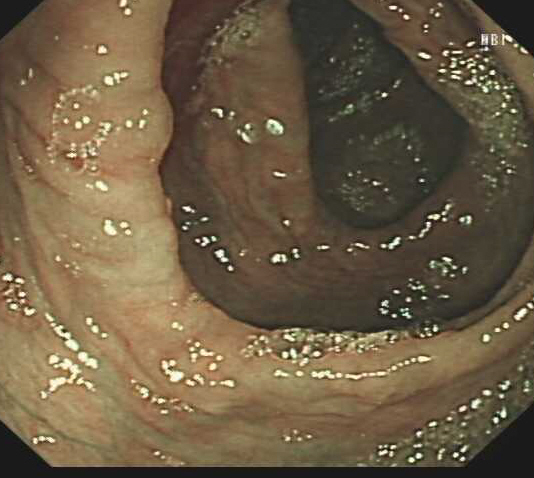others: (133, 216, 182, 291), (138, 87, 176, 166)
